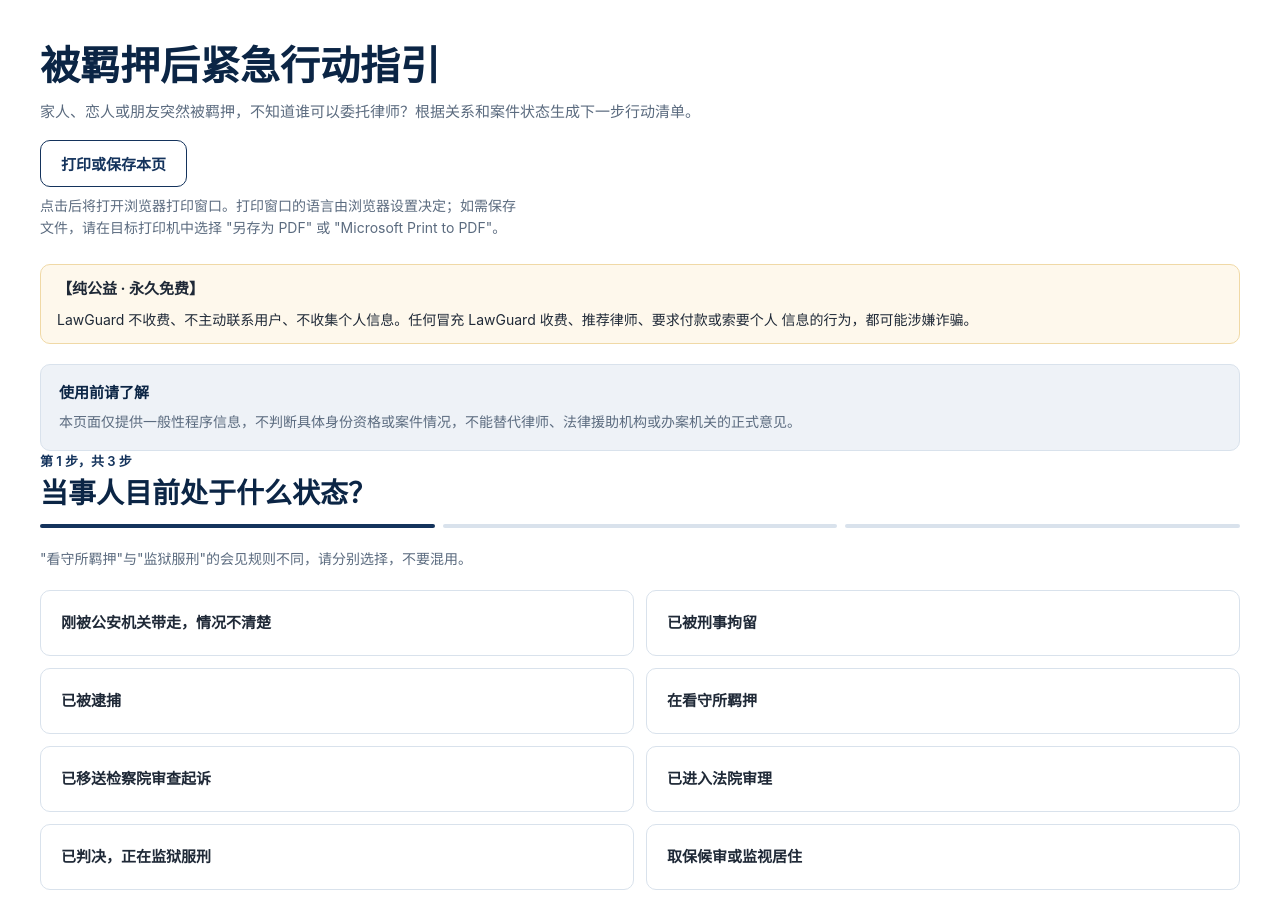
Scenario: EmergencyGuideView：三步引导 + 结果页 › 走完三步后生成结果页，包含未婚恋人 + 看守所 + 未联系律师的完整清单
This screenshot has width=1280, height=900.
Click the button with class "option-card" showing "在看守所羁押" at (712, 701), box [646, 668, 1240, 734]
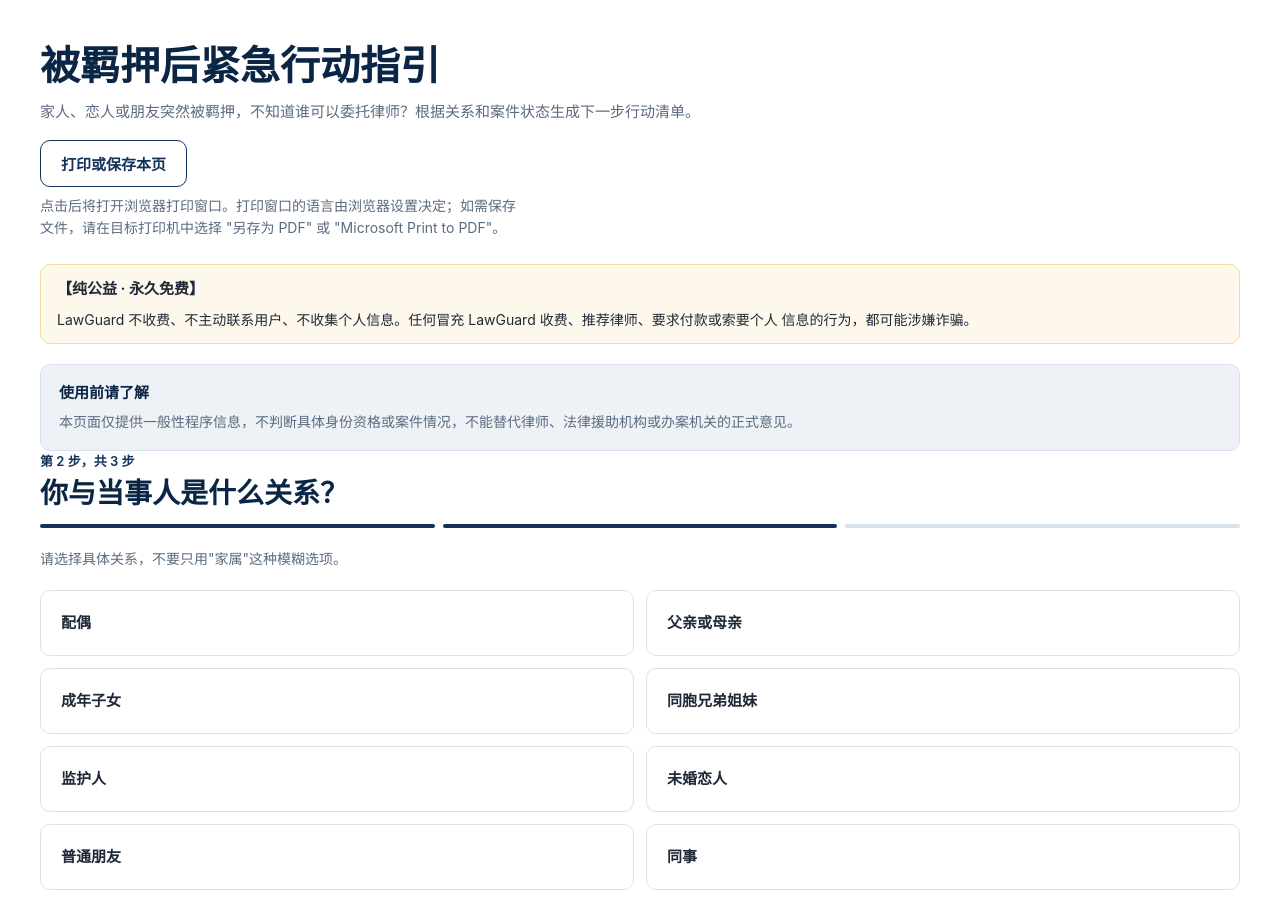
Click the button with class "option-card" showing "未婚恋人" at (697, 779), box [646, 746, 1240, 812]
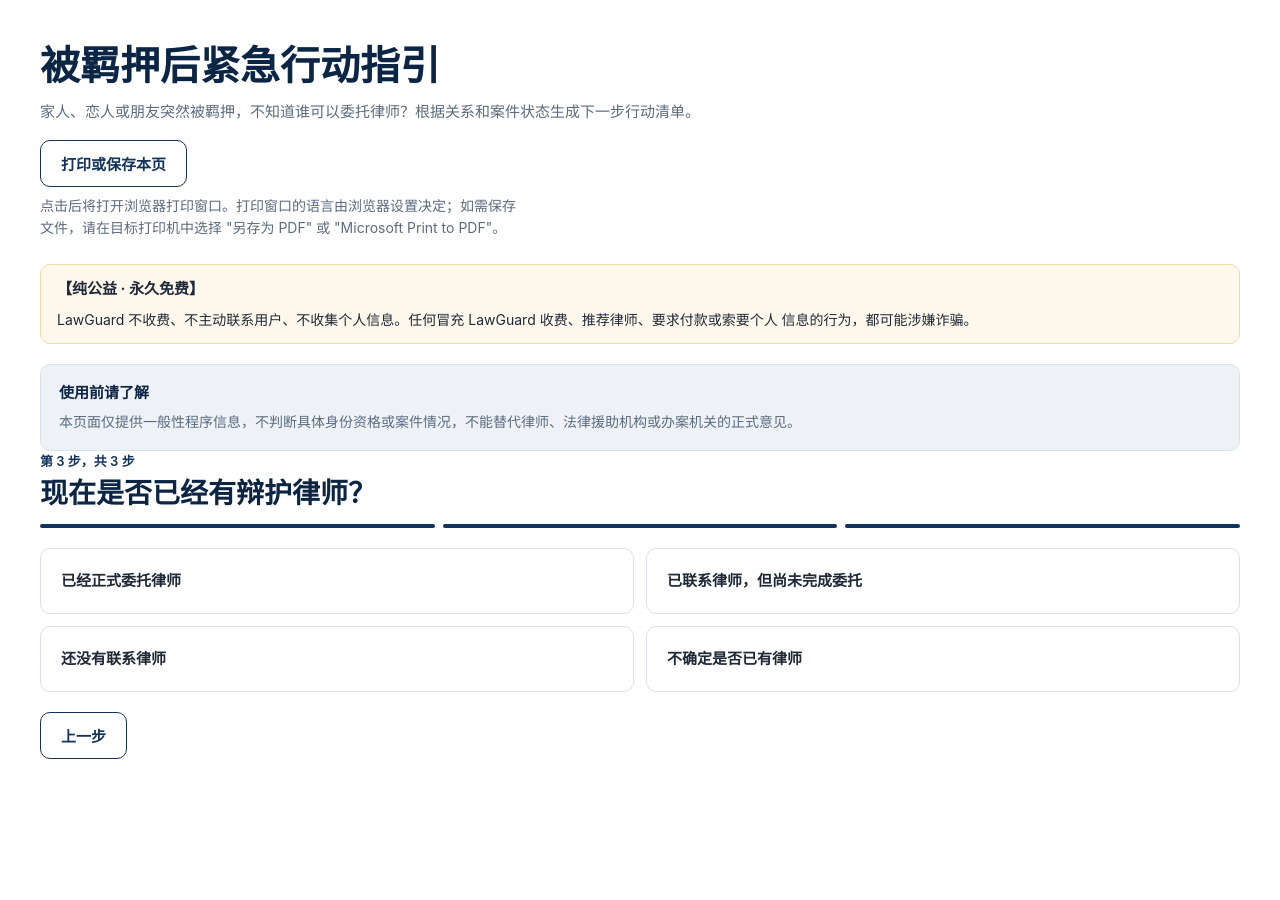
Click the button with class "option-card" showing "还没有联系律师" at (114, 658), box [40, 626, 634, 692]
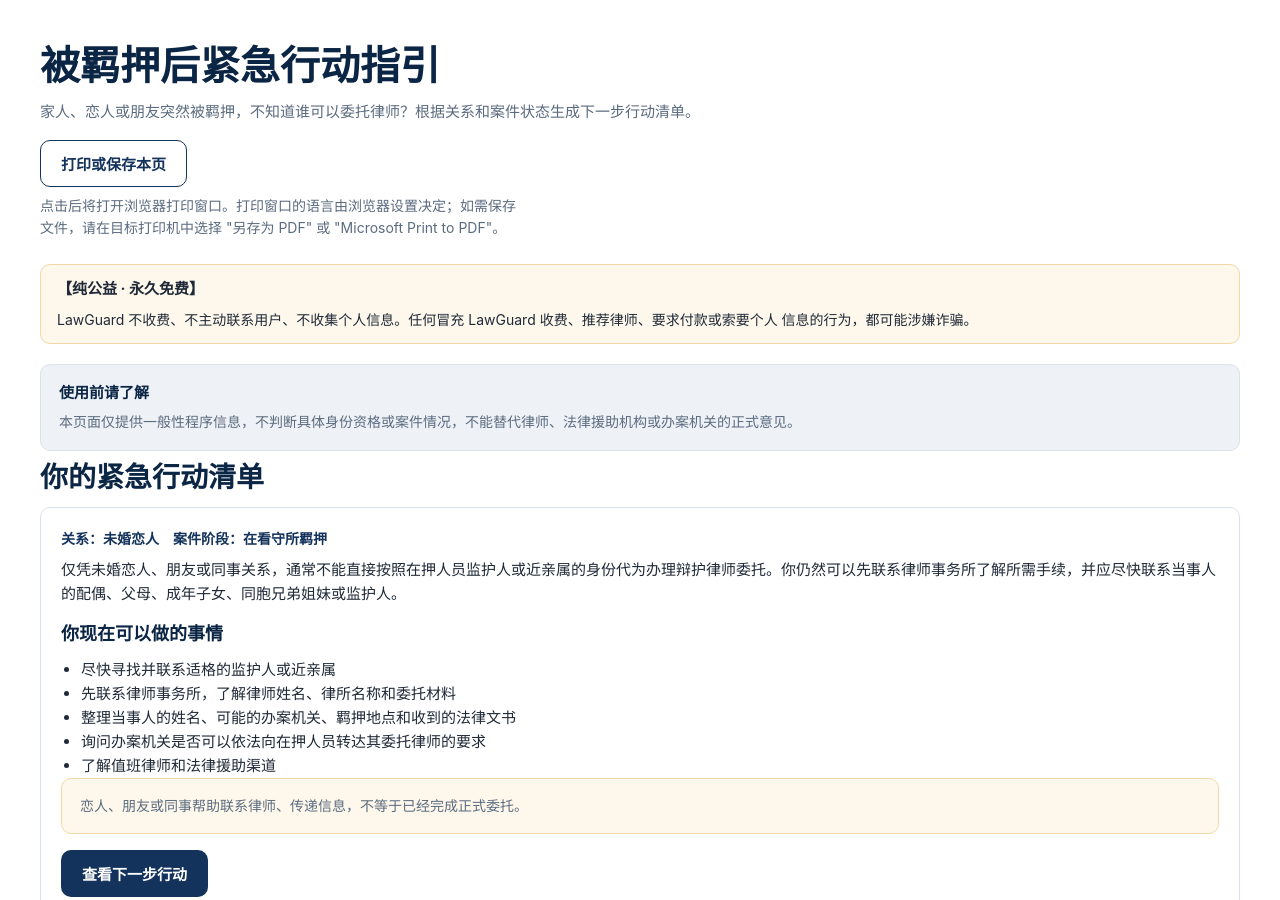
Expected: the text "你的紧急行动清单" is shown, [40, 460, 264, 494]
